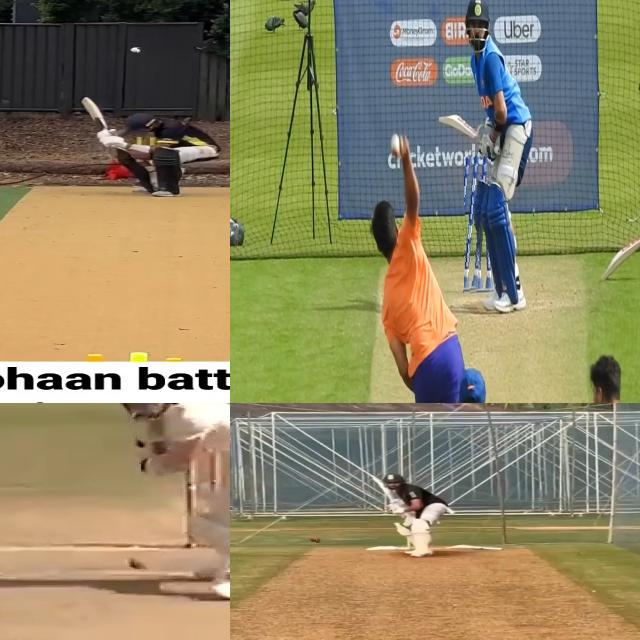Cricket ball: (390, 131, 402, 159), (128, 556, 152, 569), (310, 536, 322, 543), (130, 47, 142, 53)
Stumps: (464, 152, 492, 294)
